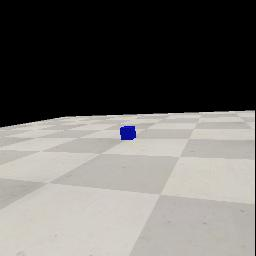box: (120, 126, 136, 140)
